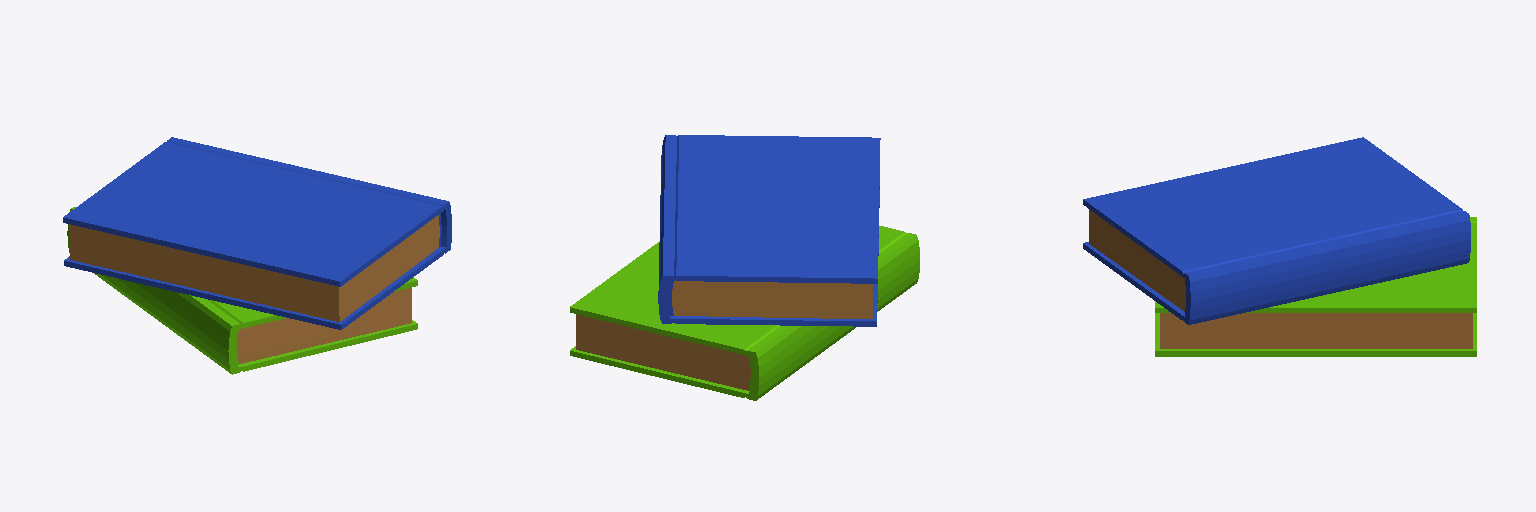
File: books.obj
3 renders of one model, left to right at view 1: azimuth 30°, elevation 25°; view 2: azimuth 150°, elevation 25°; view 3: azimuth 270°, elevation 25°, orthographic.
Visible parts, largest first — view 1: books_Box041; view 2: books_Box041; view 3: books_Box041.
Part boxes in pixels (x1,y1,x2,y2): books_Box041: (63, 137, 451, 374); books_Box041: (570, 135, 919, 400); books_Box041: (1083, 137, 1476, 356).
Size of the model in its own units: 0.0691 by 0.0226 by 0.078.